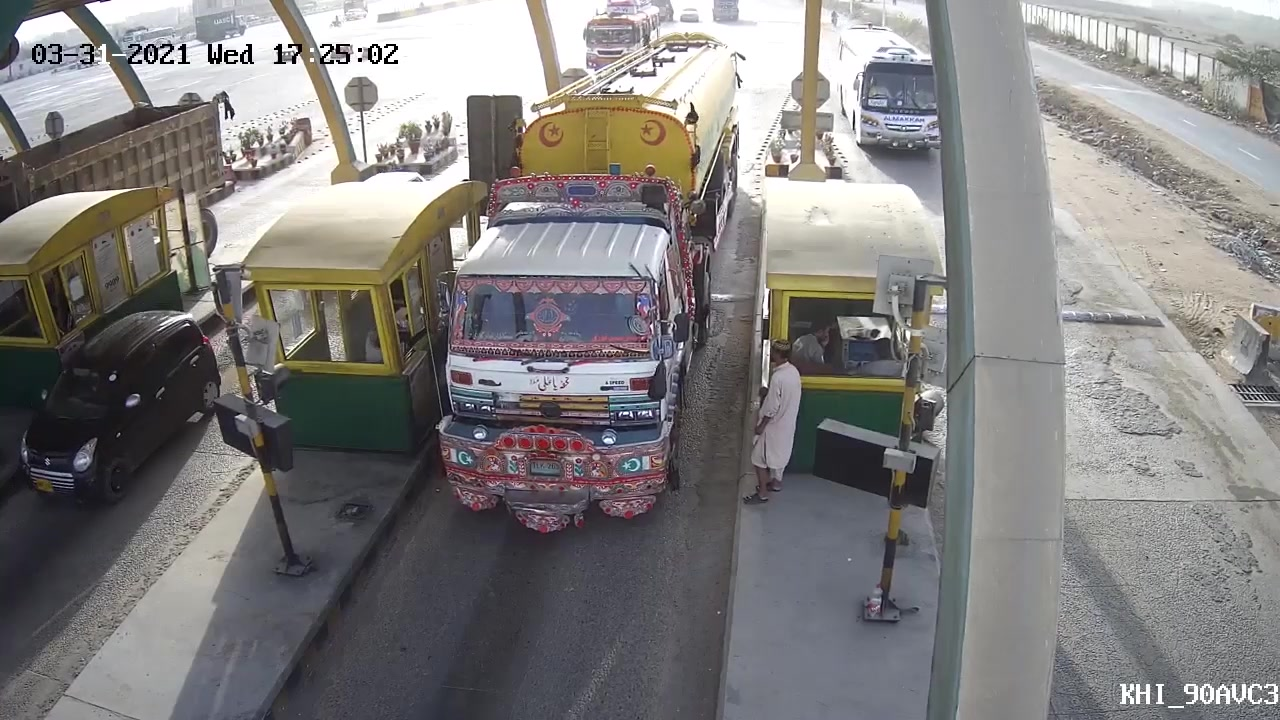F6: (420, 19, 754, 542)
